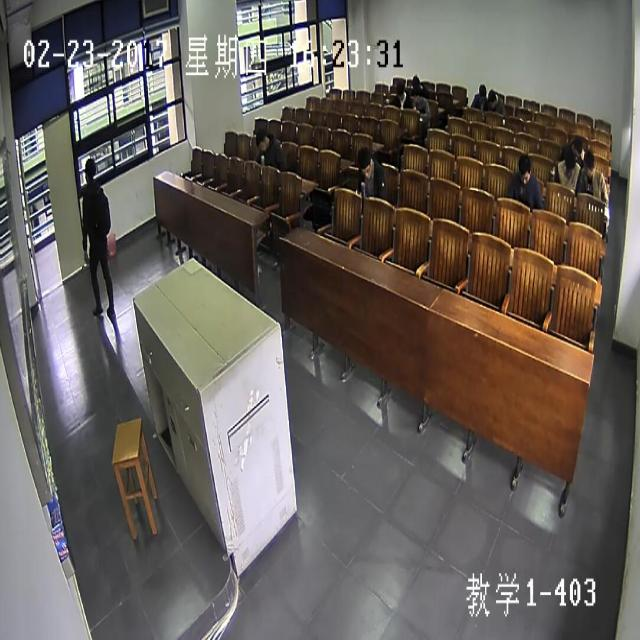person: (357, 147, 372, 180), (84, 156, 98, 184), (582, 150, 594, 181), (563, 148, 576, 176), (518, 154, 531, 182), (255, 128, 269, 150), (401, 93, 417, 111), (570, 137, 582, 160), (486, 89, 496, 113), (408, 73, 422, 89), (395, 76, 405, 97), (476, 84, 486, 100)
